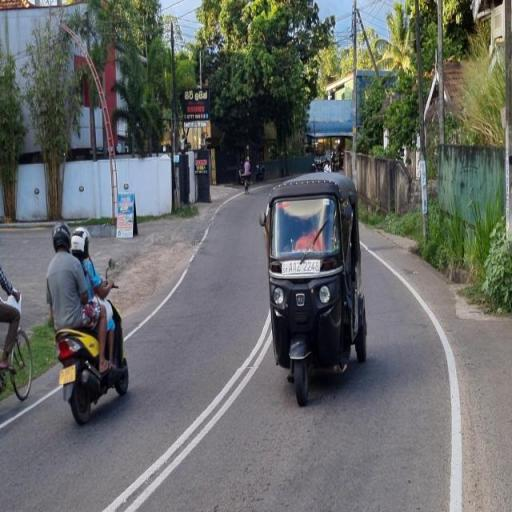double_white_line: (106, 319, 271, 511)
